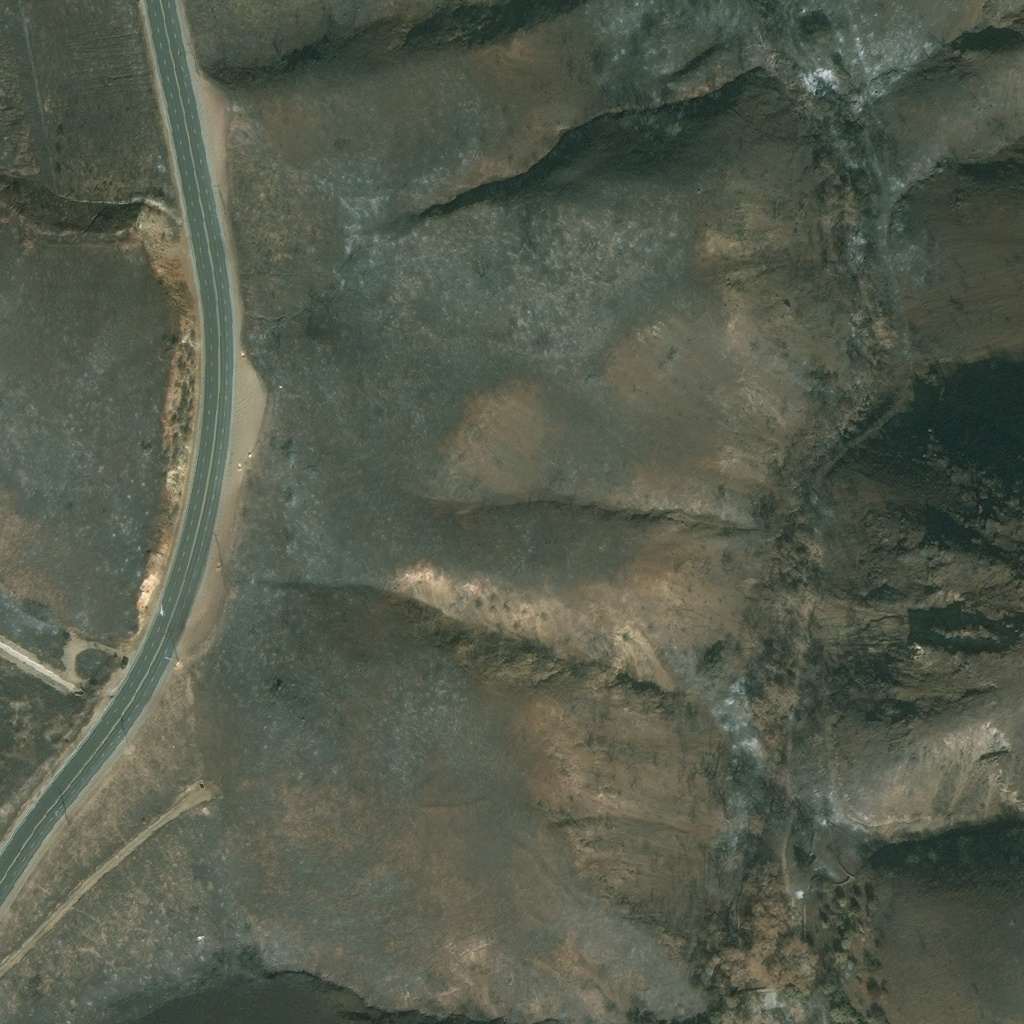3 destroyed: (747, 985, 779, 1011)
